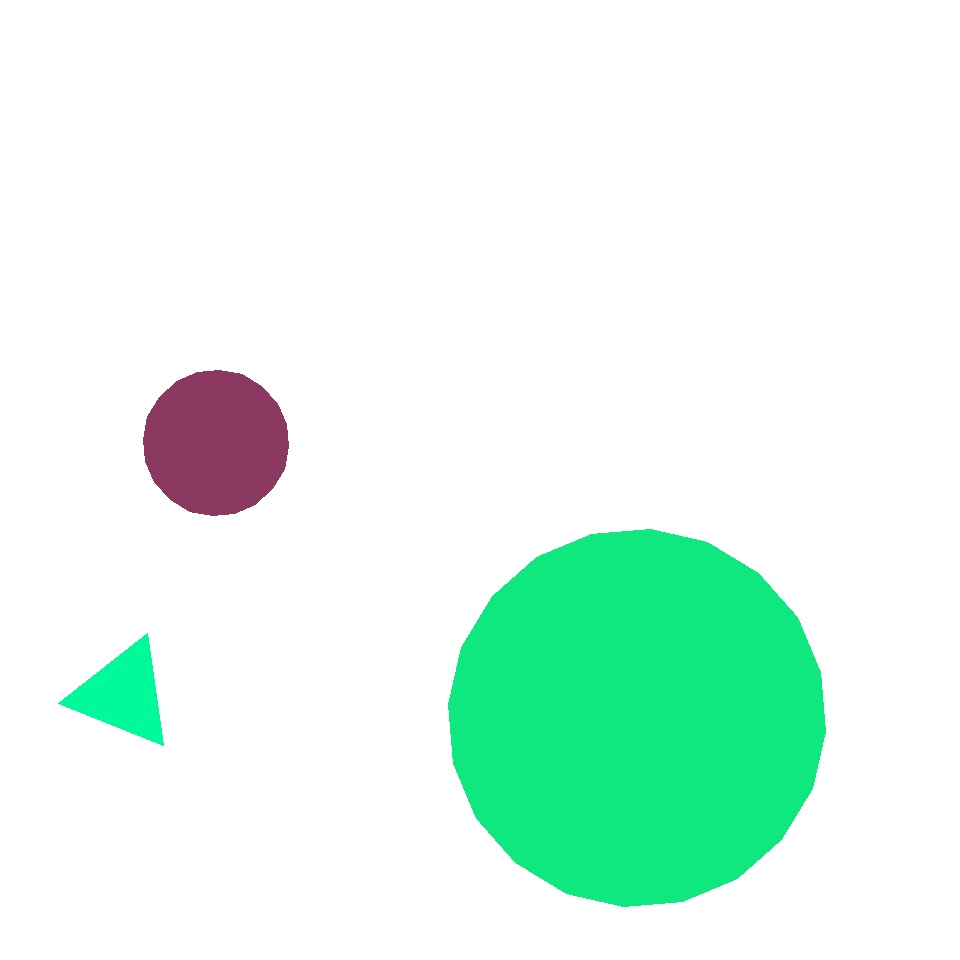circle: (488, 240, 644, 390), (70, 638, 176, 750), (194, 300, 280, 376)
square: (425, 68, 662, 304)
triangle: (449, 530, 826, 906), (110, 528, 328, 747), (144, 371, 288, 516)
